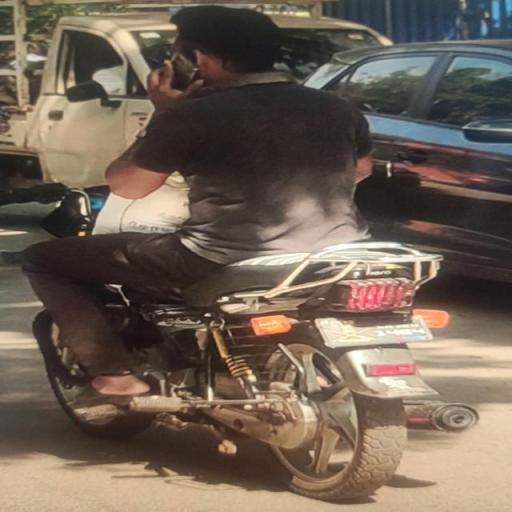using mobile: (142, 44, 207, 110)
